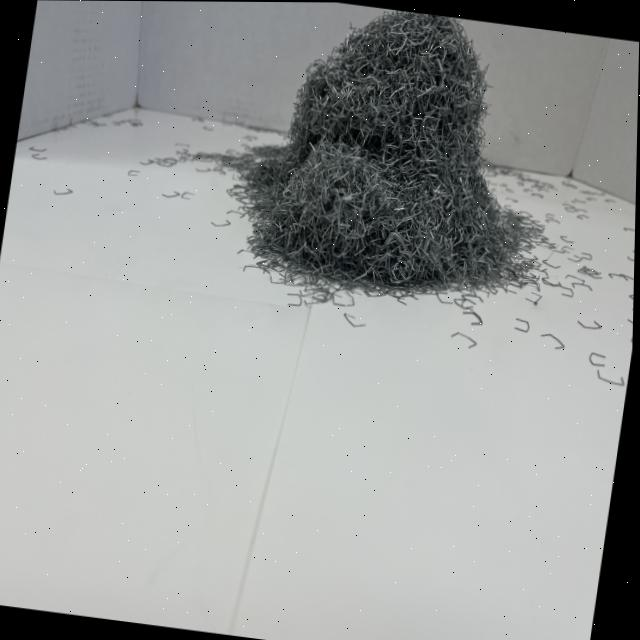staples: (229, 2, 563, 307)
